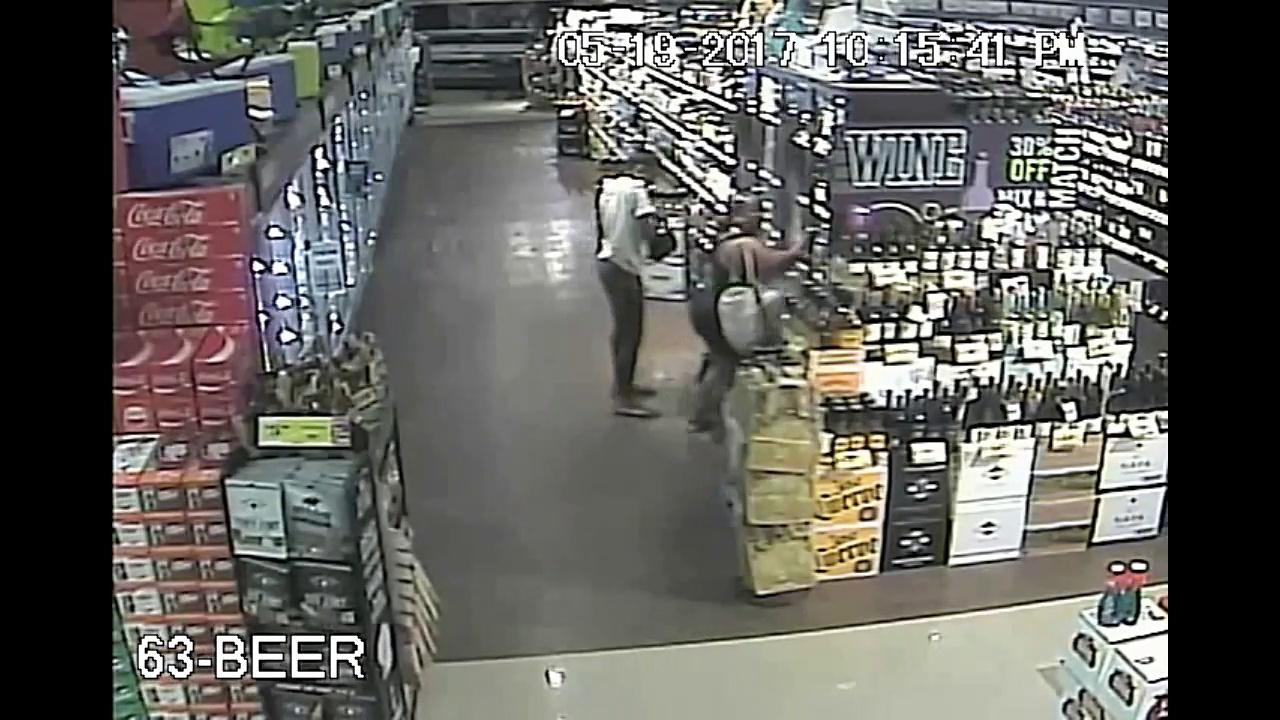3: (666, 156, 841, 450), (573, 131, 670, 291)
persone: (709, 282, 804, 356)
